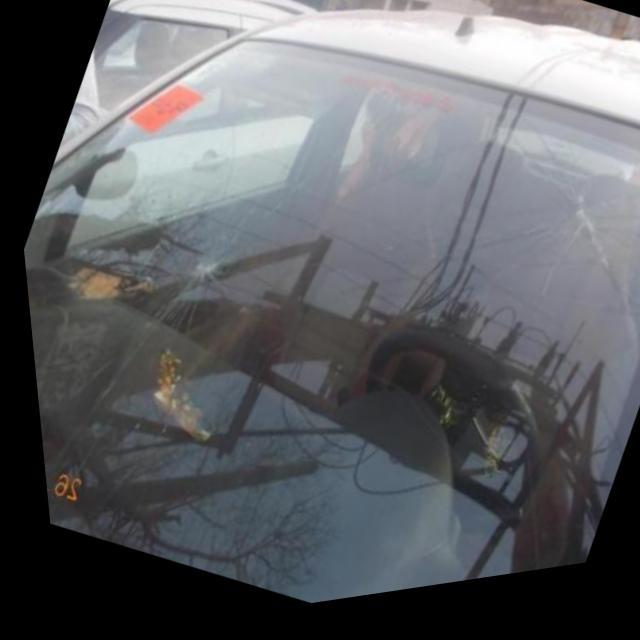glass shatter: (509, 174, 637, 304), (125, 217, 234, 337)
